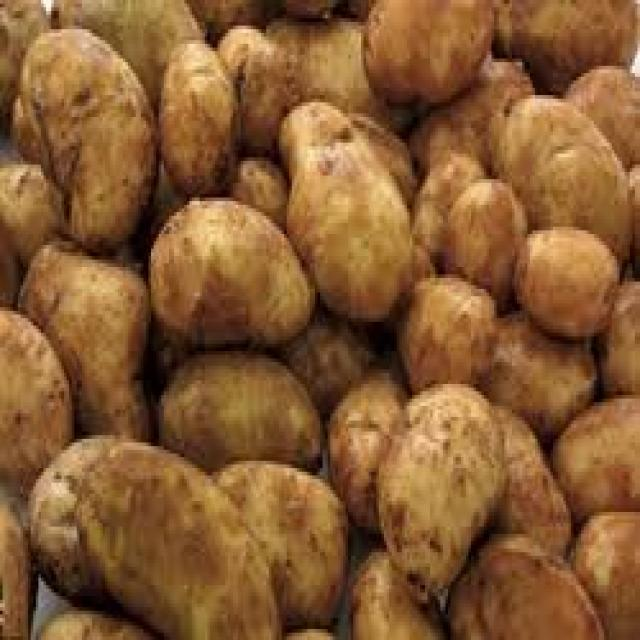Potato: (26, 428, 275, 640), (269, 103, 429, 330), (19, 39, 169, 260), (368, 376, 512, 600), (144, 175, 321, 353), (482, 80, 638, 274), (20, 222, 151, 437), (208, 443, 341, 619), (154, 359, 326, 486), (384, 254, 511, 398), (476, 296, 600, 434), (321, 375, 432, 524), (352, 0, 499, 110), (0, 292, 75, 496), (518, 211, 622, 346), (428, 173, 536, 299), (550, 407, 640, 519)
